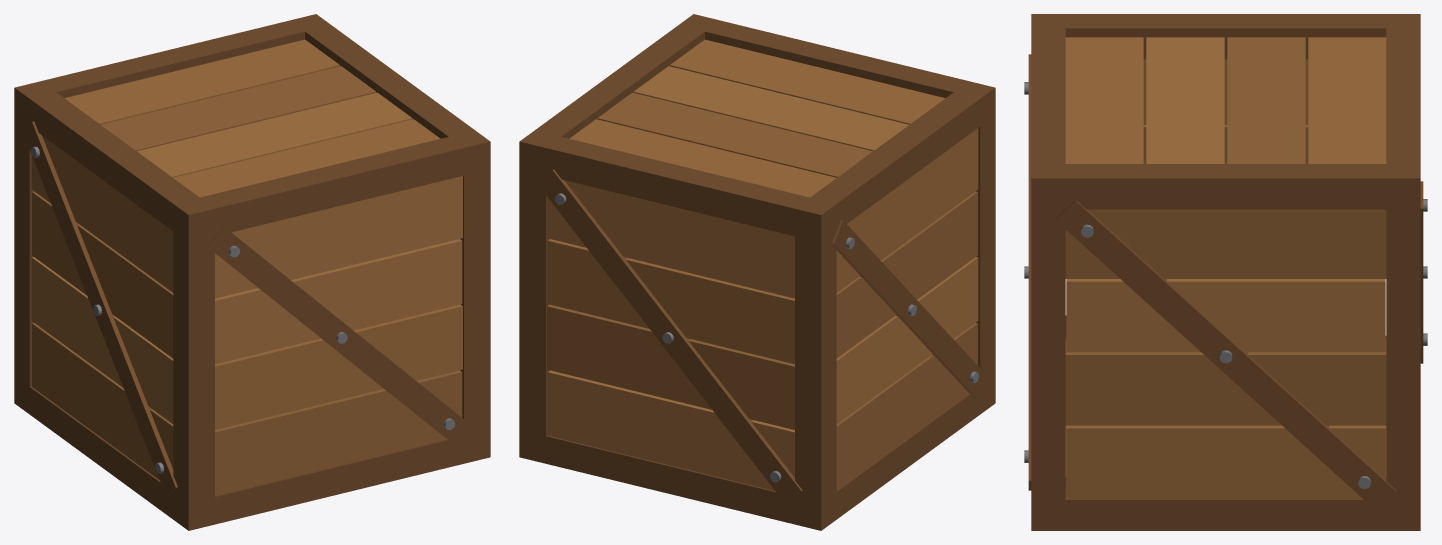
File: caja_madera.glb
The picture shows the model from 3 angles, left to right: view 1: azimuth 30°, elevation 25°; view 2: azimuth 150°, elevation 25°; view 3: azimuth 270°, elevation 25°; orthographic projection. The views are drawn at different scales.
Visible parts, largest first — view 1: Caja_Madera_marco, Caja_Madera_c, Caja_Madera_b, Caja_Madera_a, Caja_Metal_clavo; view 2: Caja_Madera_marco, Caja_Madera_c, Caja_Madera_b, Caja_Madera_a, Caja_Metal_clavo; view 3: Caja_Madera_marco, Caja_Madera_b, Caja_Madera_a, Caja_Madera_c, Caja_Metal_clavo.
Boxes of the visible parts, left/top/right/bottom form: Caja_Madera_marco: left=14, top=14, right=490, bottom=530; Caja_Madera_c: left=31, top=92, right=462, bottom=423; Caja_Madera_b: left=32, top=66, right=462, bottom=495; Caja_Madera_a: left=31, top=39, right=462, bottom=429; Caja_Metal_clavo: left=31, top=146, right=455, bottom=473; Caja_Madera_marco: left=519, top=14, right=995, bottom=530; Caja_Madera_c: left=547, top=66, right=978, bottom=490; Caja_Madera_b: left=547, top=92, right=977, bottom=489; Caja_Madera_a: left=547, top=39, right=978, bottom=364; Caja_Metal_clavo: left=554, top=193, right=978, bottom=482; Caja_Madera_marco: left=1028, top=14, right=1423, bottom=530; Caja_Madera_b: left=1065, top=37, right=1386, bottom=485; Caja_Madera_a: left=1065, top=37, right=1386, bottom=498; Caja_Madera_c: left=1066, top=37, right=1385, bottom=352; Caja_Metal_clavo: left=1024, top=82, right=1427, bottom=488.
Size of the model in its own units: 0.83 by 0.8 by 0.83.
